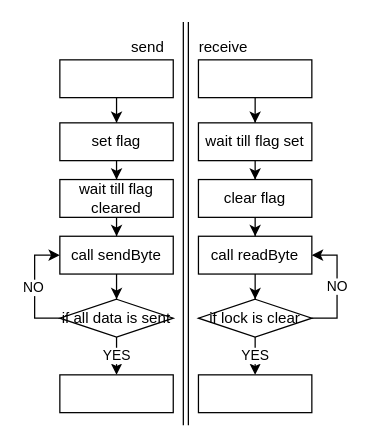
Some shapes in this 369 by 447 pixel diagram are drawn without their labels. Here are the shapes that lost their labels. From the top down, the box of each, then its label:
(59, 59, 173, 98): have data to send, set lock
(197, 59, 312, 98): wait till lock set
(59, 374, 173, 413): Done
(197, 374, 312, 413): return all the data
